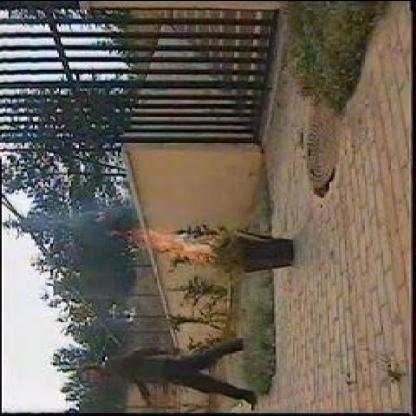foggia-v2-map80-epoch100 - v1 4323: (142, 232, 184, 253)
